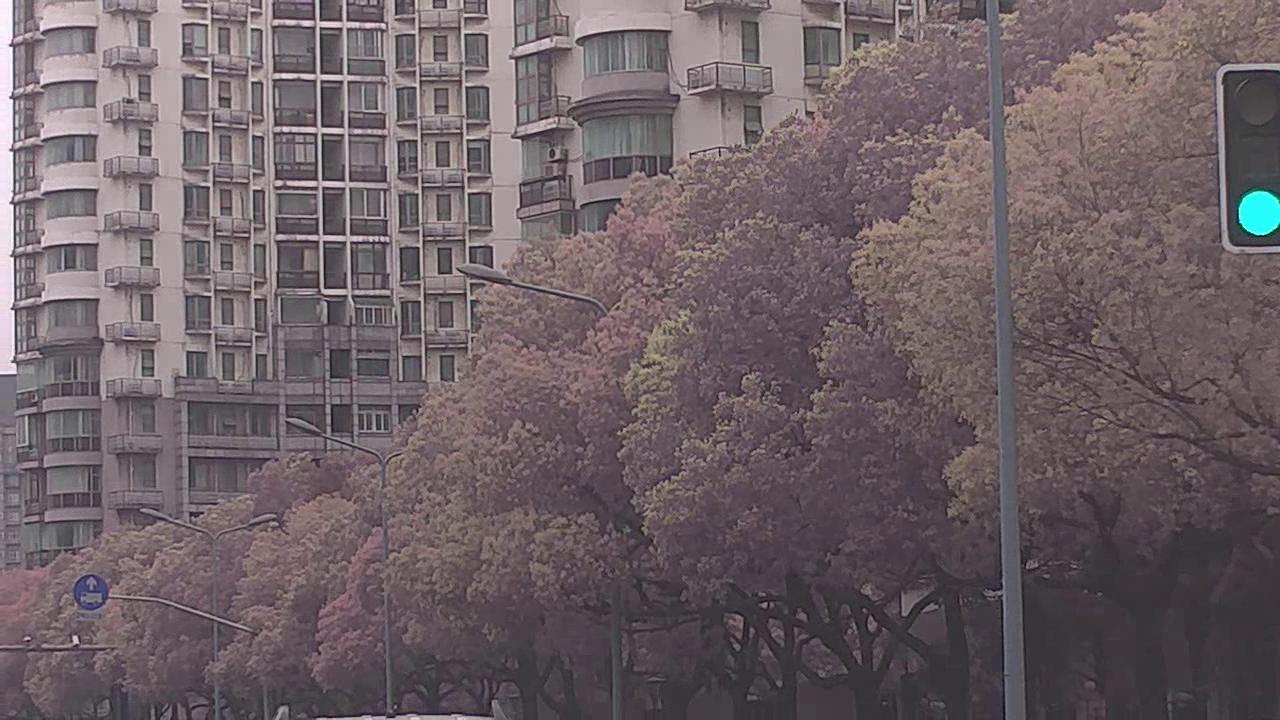traffic_light: (1217, 63, 1280, 256)
